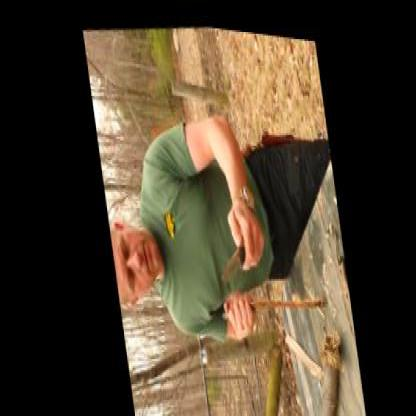knife: (203, 196, 256, 284)
